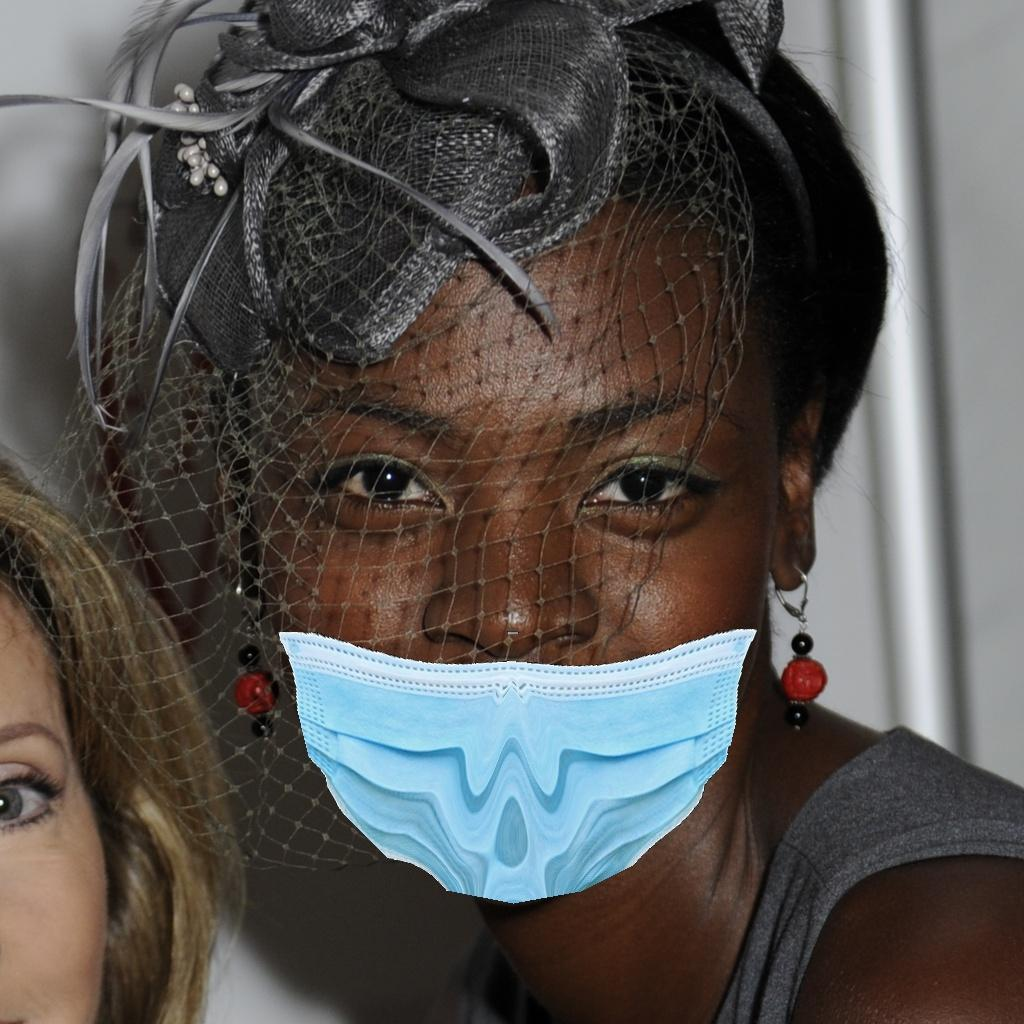Máscara Incorreta: (244, 304, 770, 886)
